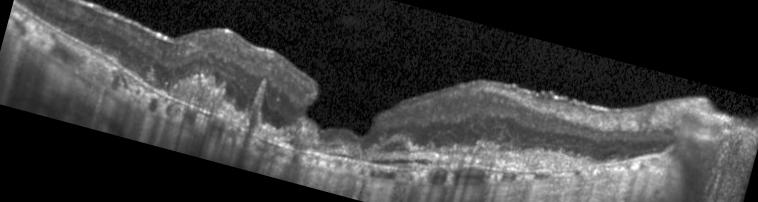lamellar_macular_rupture: (305, 81, 383, 136)
subretinal_fluid: (370, 158, 433, 165), (380, 142, 407, 151)
subretinal_hyperreflective_material: (169, 73, 362, 158), (362, 133, 627, 171)
